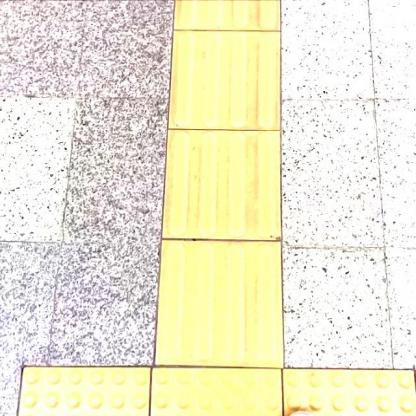podotacti: (155, 0, 287, 366)
